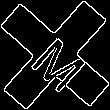M_NE: (21, 21, 89, 89)
